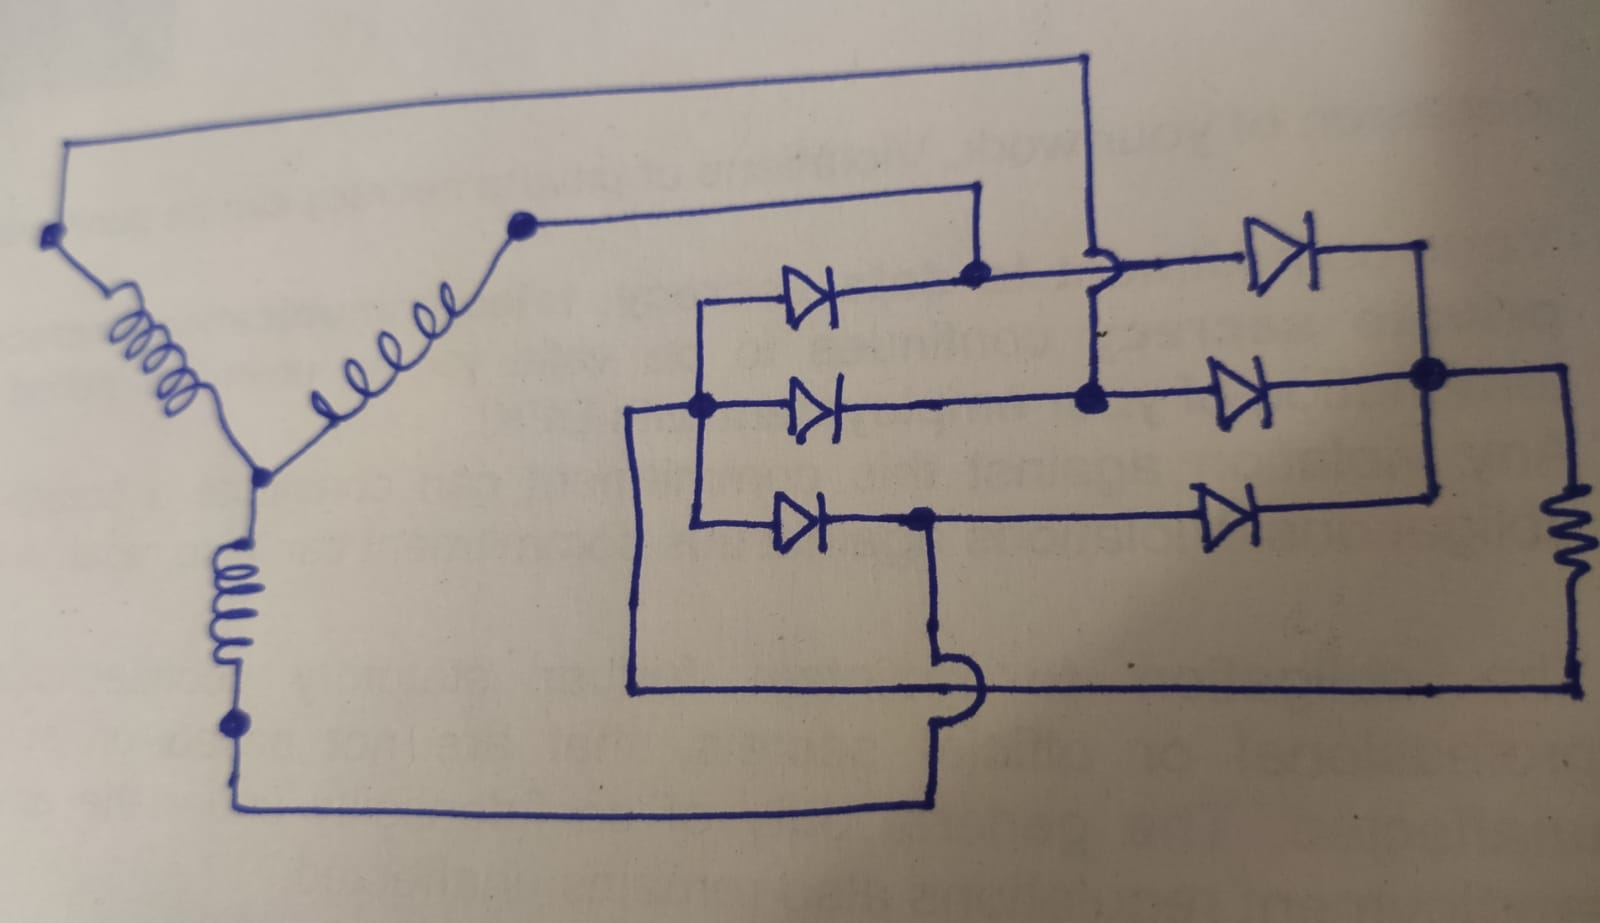crossover: (921, 650, 988, 735), (1079, 242, 1125, 301)
diode: (1237, 210, 1323, 294), (1208, 353, 1276, 431), (1195, 480, 1263, 553), (767, 488, 834, 556), (785, 372, 847, 444), (776, 264, 841, 330)
inductor: (307, 277, 478, 435), (101, 279, 205, 420), (209, 534, 265, 670)
junction: (1549, 659, 1595, 715), (1405, 472, 1458, 519), (1401, 351, 1454, 394), (1070, 372, 1118, 416), (1396, 227, 1440, 274), (1541, 349, 1584, 394), (501, 207, 548, 247), (1064, 37, 1105, 81), (899, 502, 945, 541), (908, 785, 948, 827), (612, 670, 655, 710), (243, 453, 281, 496), (216, 703, 254, 746), (51, 127, 89, 168), (35, 218, 74, 254), (956, 257, 995, 293), (682, 389, 721, 424), (679, 509, 715, 544), (687, 291, 719, 324), (959, 173, 991, 205), (613, 398, 645, 430), (222, 791, 252, 821)
resistor: (1541, 476, 1596, 574)
